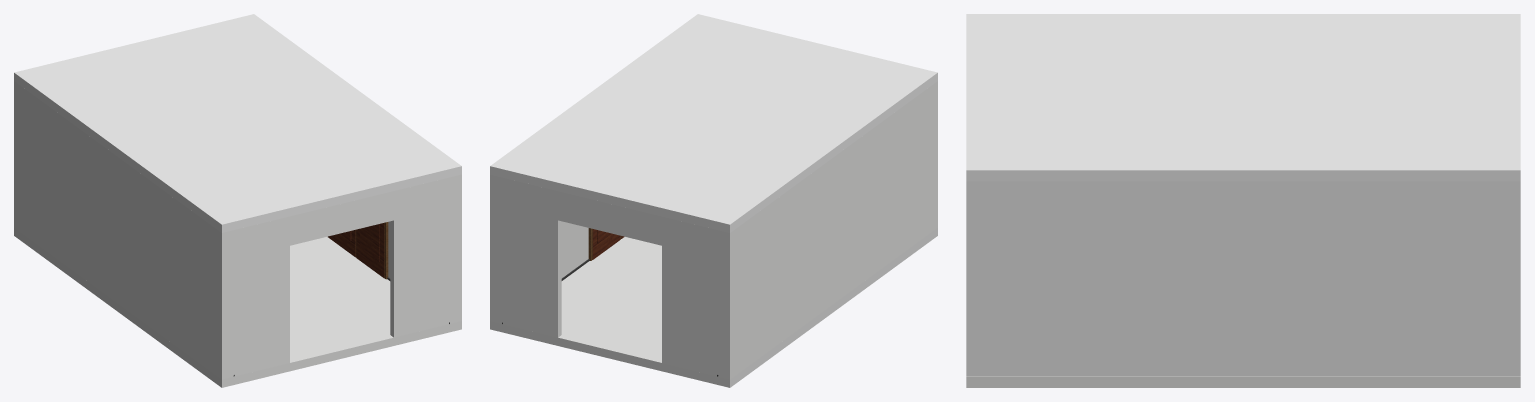
Rendered from room_door_s3.glb.
3 views of the same model, side by side, from view 1: azimuth 30°, elevation 25°; view 2: azimuth 150°, elevation 25°; view 3: azimuth 270°, elevation 25° (orthographic). The views are drawn at different scales.
Visible parts, largest first — view 1: room_door_s3_static; view 2: room_door_s3_static; view 3: room_door_s3_static.
Part boxes in pixels (x1,y1,x2,y2): room_door_s3_static: [14, 14, 461, 387]; room_door_s3_static: [490, 14, 937, 387]; room_door_s3_static: [966, 14, 1520, 387].
Bounding box in the file's own units: 6 × 3.9 × 9.
12 materials, 2 textured.
